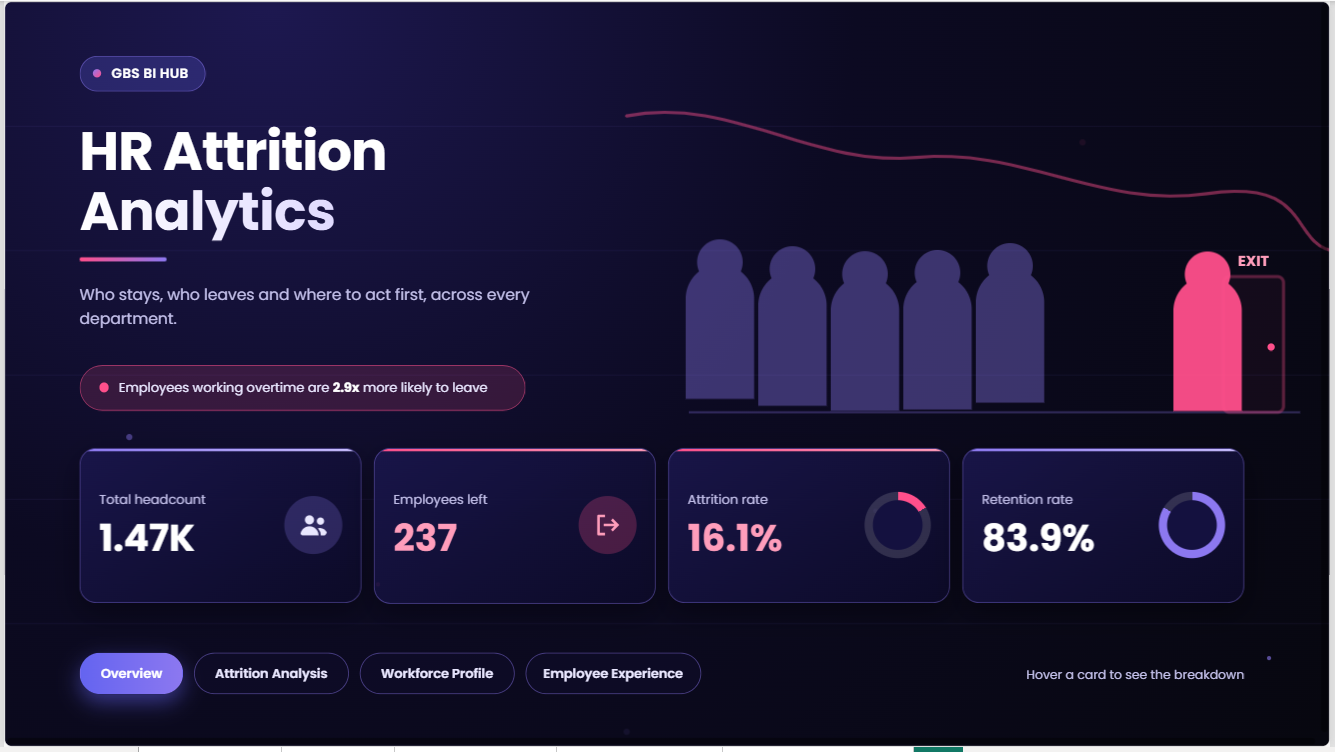

What the dashboard file says about the page in this screenshot:
{"tool":"powerbi","page":{"name":"Landing page","canvas":[1280,720],"ordinal":0},"visuals":[{"type":"htmlContent443BE3AD55E043BF878BED274D3A6855","fields":{"content":["DAX.HR Landing HTML"]},"box":[0,0,1280,720.2],"z":0},{"type":"actionButton","box":[74.8,628.6,95,36.2],"z":1000},{"type":"actionButton","box":[184.6,628.6,146,39.8],"z":2000},{"type":"actionButton","box":[346.2,631,150.8,36.2],"z":3000},{"type":"actionButton","box":[507.9,632.2,164.1,36.2],"z":4000}]}

Visuals, with their boxes in screenshot pixels (x1, y1, x2, y2), scaled from the page's 1280x720 canvas onto the 1335x752 screenshot:
htmlContent443BE3AD55E043BF878BED274D3A6855 - DAX.HR Landing HTML: pyautogui.locateOnScreen(0, 0, 1334, 751)
actionButton: pyautogui.locateOnScreen(78, 657, 177, 694)
actionButton: pyautogui.locateOnScreen(193, 657, 345, 698)
actionButton: pyautogui.locateOnScreen(361, 659, 518, 697)
actionButton: pyautogui.locateOnScreen(530, 660, 701, 698)
